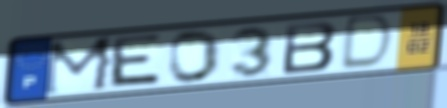3: (229, 24, 276, 79)
B: (280, 19, 341, 76)
D: (337, 12, 398, 72)
E: (104, 32, 164, 89)
M: (40, 34, 119, 98)
O: (167, 28, 223, 85)
